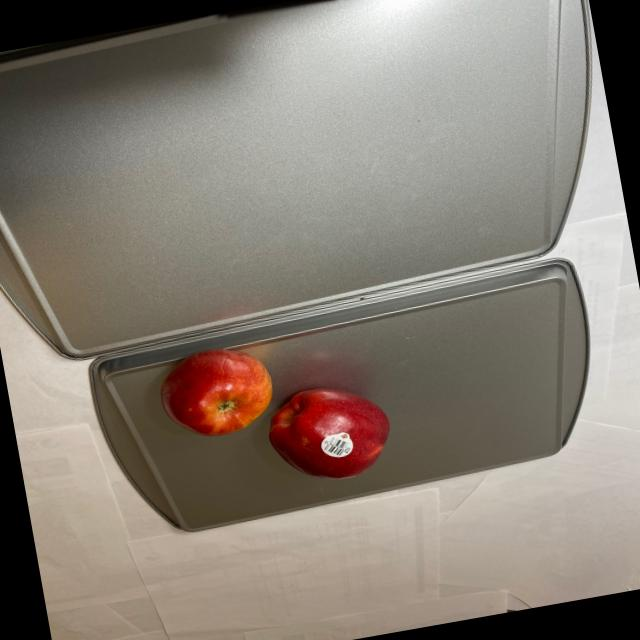apple: (150, 321, 398, 508)
